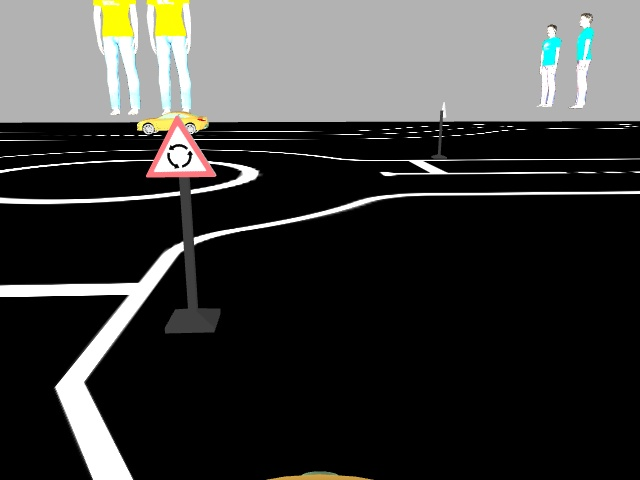Roundabout: (144, 114, 219, 178)
